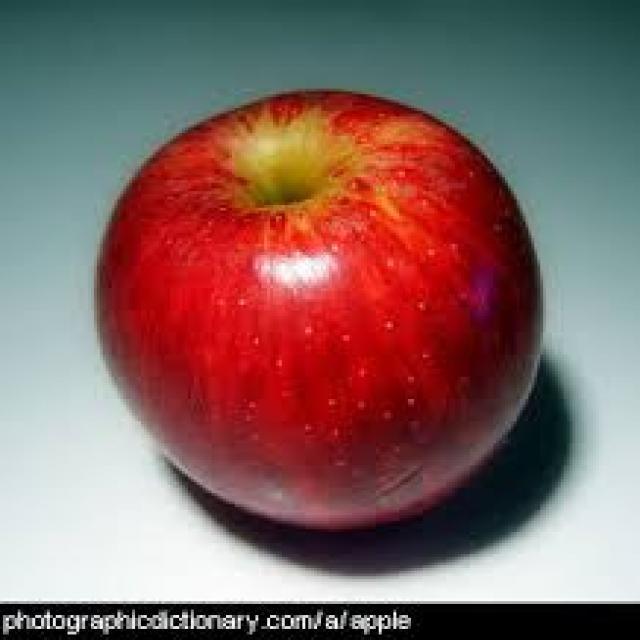organic waste: (88, 86, 537, 535)
